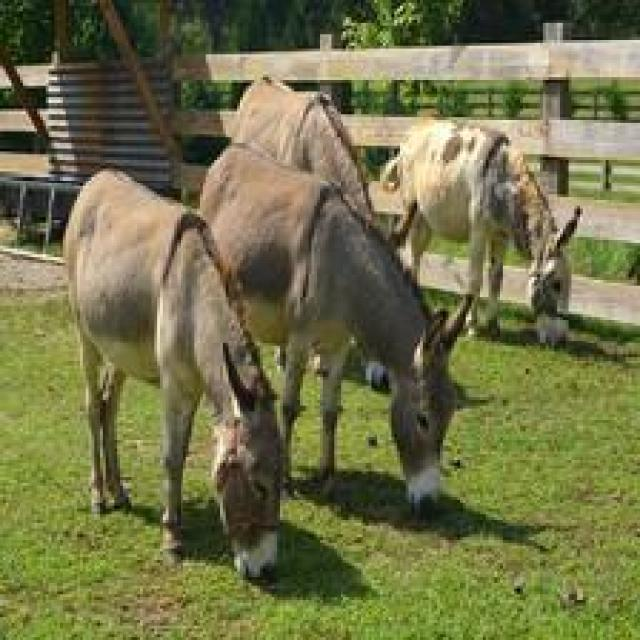Donkey: (176, 146, 470, 511), (60, 166, 286, 580), (377, 114, 580, 349), (226, 71, 374, 223)
